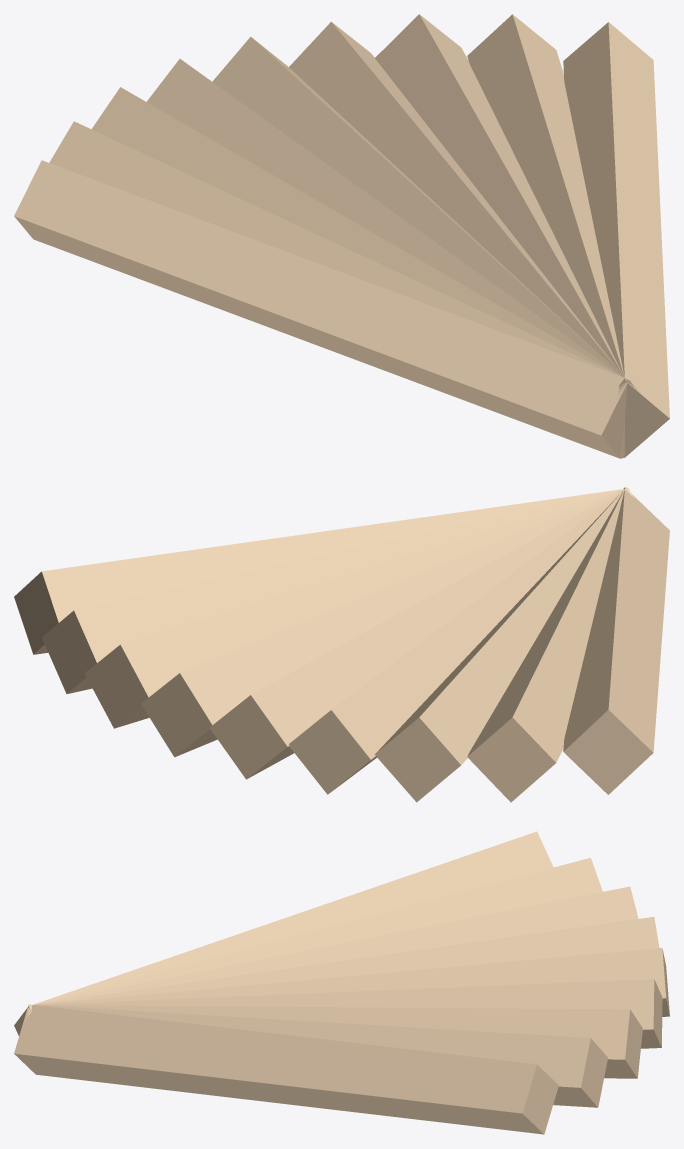
The model's file is shell.glb.
3 views of the same model, one above another, from view 1: azimuth 30°, elevation 25°; view 2: azimuth 150°, elevation 25°; view 3: azimuth 270°, elevation 25° (orthographic). The views are drawn at different scales.
Visible parts, largest first — view 1: ShellRib, ShellRib.008, ShellRib.007, ShellRib.006, ShellRib.005, ShellRib.004, ShellRib.003, ShellRib.002, ShellRib.001; view 2: ShellRib, ShellRib.004, ShellRib.005, ShellRib.006, ShellRib.007, ShellRib.008, ShellRib.003, ShellRib.002, ShellRib.001; view 3: ShellRib.008, ShellRib.007, ShellRib.006, ShellRib, ShellRib.005, ShellRib.001, ShellRib.002, ShellRib.004, ShellRib.003.
Part boxes in pixels (x1,y1,x2,y2): ShellRib: (14,160,631,458); ShellRib.008: (563,22,669,457); ShellRib.007: (467,14,639,457); ShellRib.006: (375,14,637,457); ShellRib.005: (289,21,634,457); ShellRib.004: (212,36,633,457); ShellRib.003: (147,59,632,457); ShellRib.002: (91,87,631,458); ShellRib.001: (49,121,630,457); ShellRib: (563,487,669,794); ShellRib.004: (209,489,633,779); ShellRib.005: (141,489,632,757); ShellRib.006: (84,488,632,728); ShellRib.007: (42,488,631,693); ShellRib.008: (14,488,631,654); ShellRib.003: (289,488,635,794); ShellRib.002: (375,487,637,802); ShellRib.001: (467,487,638,802); ShellRib.008: (14,1004,558,1134); ShellRib.007: (19,1004,607,1107); ShellRib.006: (27,1005,642,1078); ShellRib: (14,831,553,1035); ShellRib.005: (28,979,662,1048); ShellRib.001: (29,858,602,1012); ShellRib.002: (28,886,638,1013); ShellRib.004: (28,948,669,1016); ShellRib.003: (29,917,659,1013).
Size of the model in its own units: 0.2944 by 0.0658 by 0.3104.
